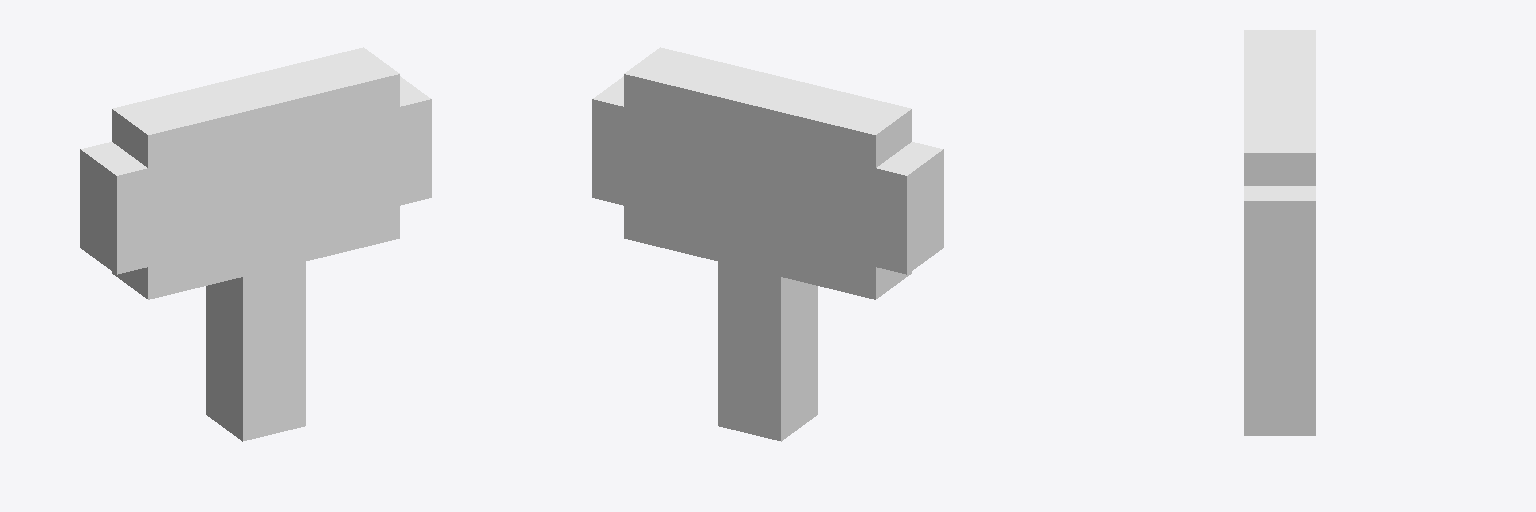
Rendered from SignPost.obj.
3 renders of one model, left to right at view 1: azimuth 30°, elevation 25°; view 2: azimuth 150°, elevation 25°; view 3: azimuth 270°, elevation 25°, orthographic.
Visible parts, largest first — view 1: object 1; view 2: object 1; view 3: object 1.
Part boxes in pixels (bbox=[...]): object 1: bbox=[80, 47, 431, 441]; object 1: bbox=[592, 47, 943, 441]; object 1: bbox=[1244, 30, 1315, 435].
Size of the model in its own units: 1 by 1 by 0.2.